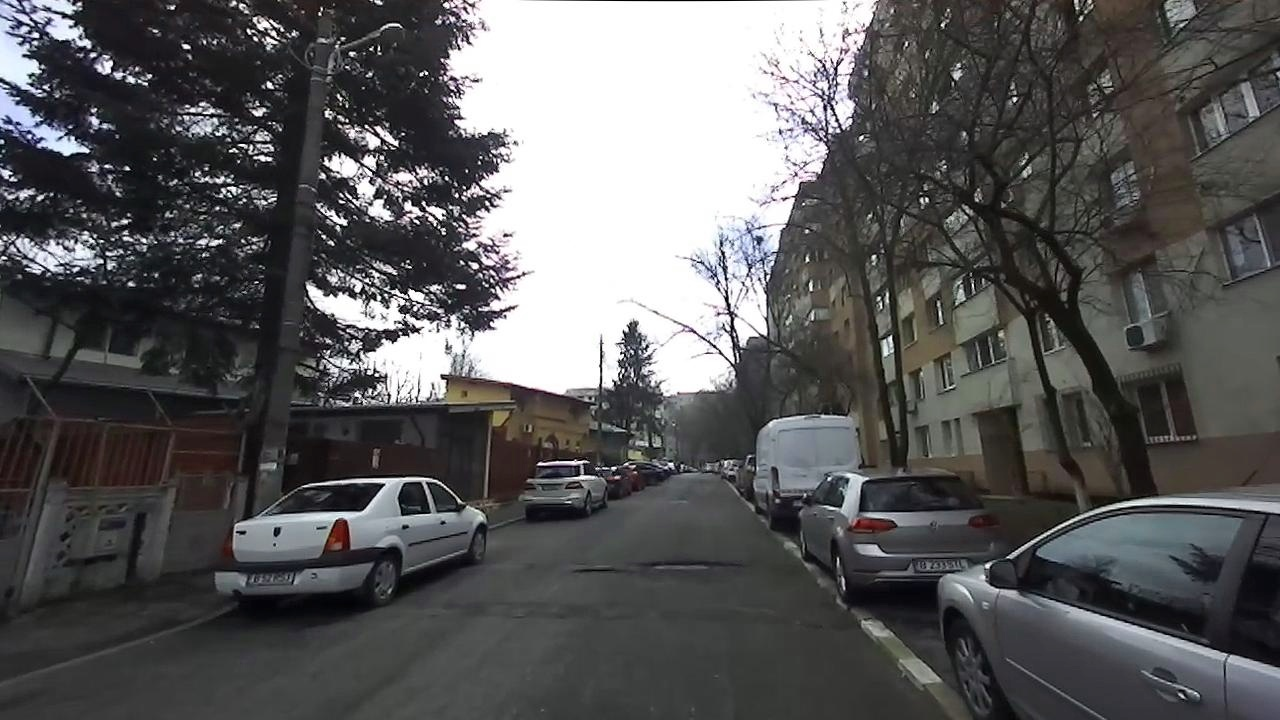pothole: (644, 557, 747, 576), (573, 566, 629, 576)
